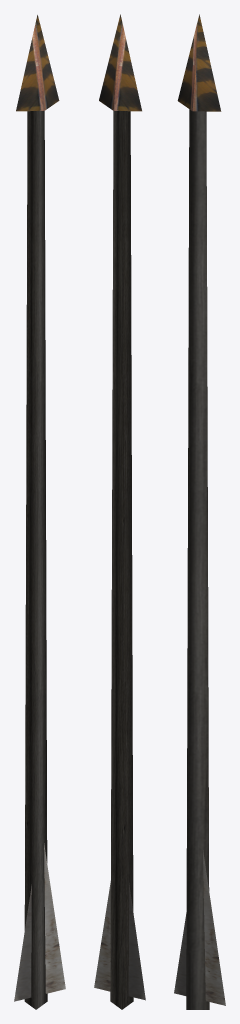
The model's file is arrow.FBX.
3 views of the same model, side by side, from view 1: azimuth 30°, elevation 25°; view 2: azimuth 150°, elevation 25°; view 3: azimuth 330°, elevation 25° (orthographic).
Parts seen in each view (by area): view 1: arrow; view 2: arrow; view 3: arrow.
Part boxes in pixels (box(x1,y1,x2,y2)): arrow: box(14, 15, 65, 1009); arrow: box(94, 14, 145, 1009); arrow: box(174, 14, 225, 1009).
Bounding box in the file's own units: 2.99 × 54.65 × 1.37.
